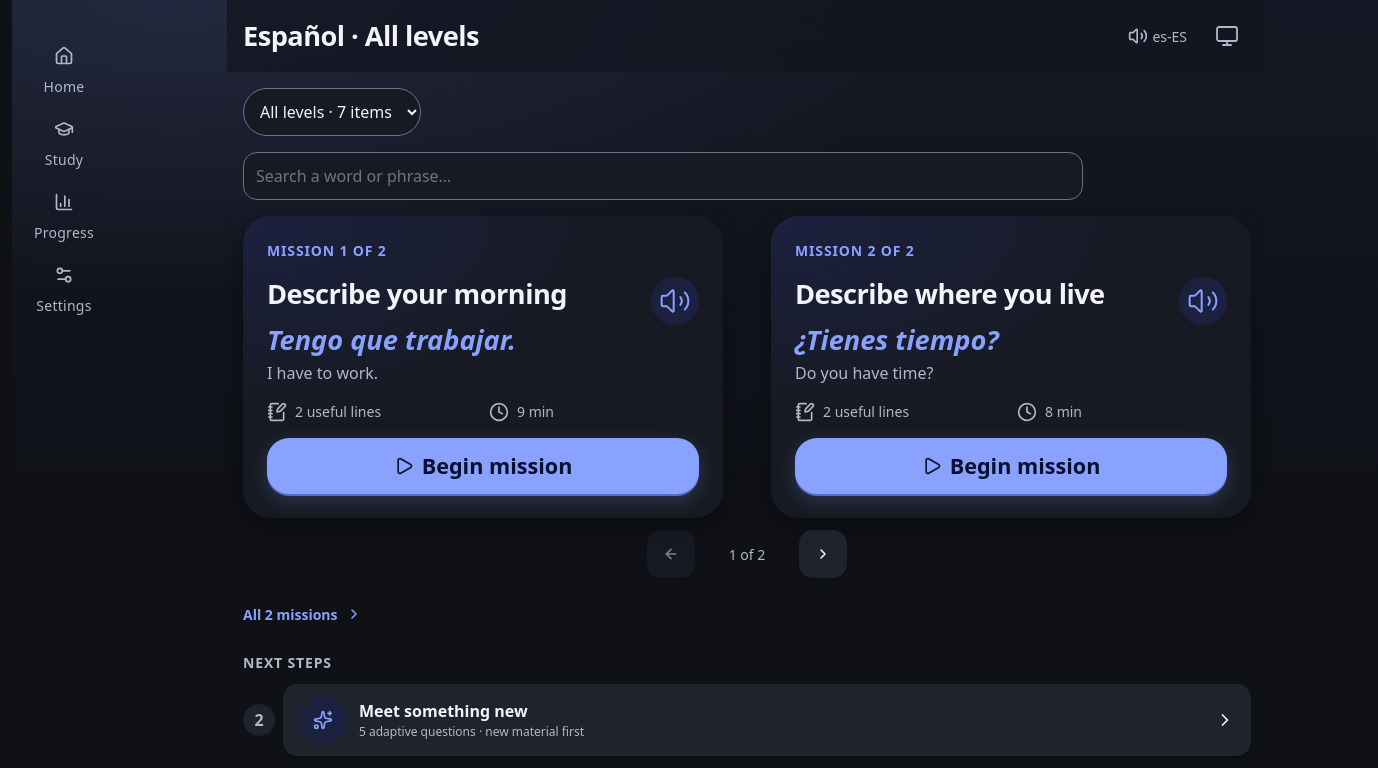
Test: the mission strip › opens the mission whose card was chosen
Check: the heading "Español · All levels" is shown, box [243,17,479,54]
Click the button "Begin mission" below "8 min".
click(1011, 466)  # box [795,438,1227,494]
(page scrolled)
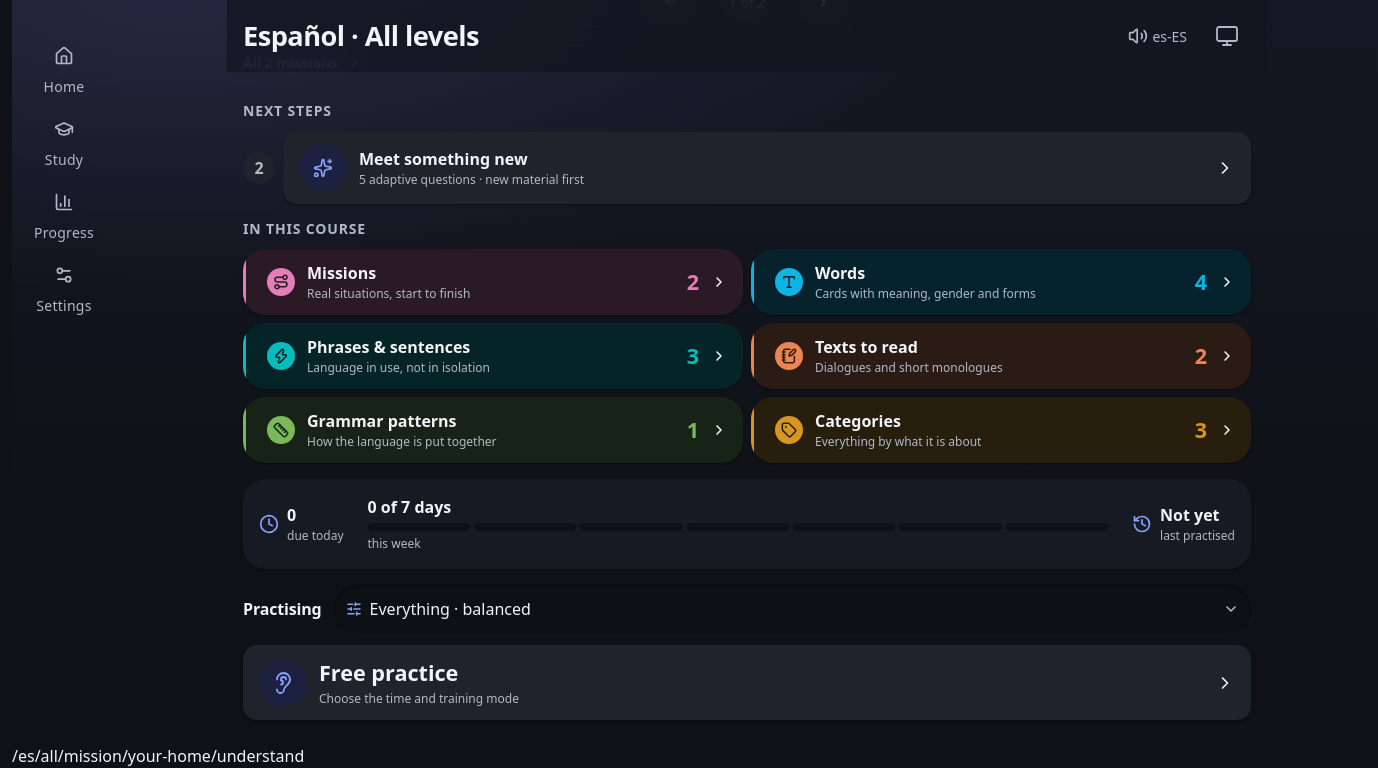
Check: the text with test id "where" does not show "morning-routine", box [12,745,304,767]
Check: the text with test id "where" shows "/mission/", box [12,745,304,767]
